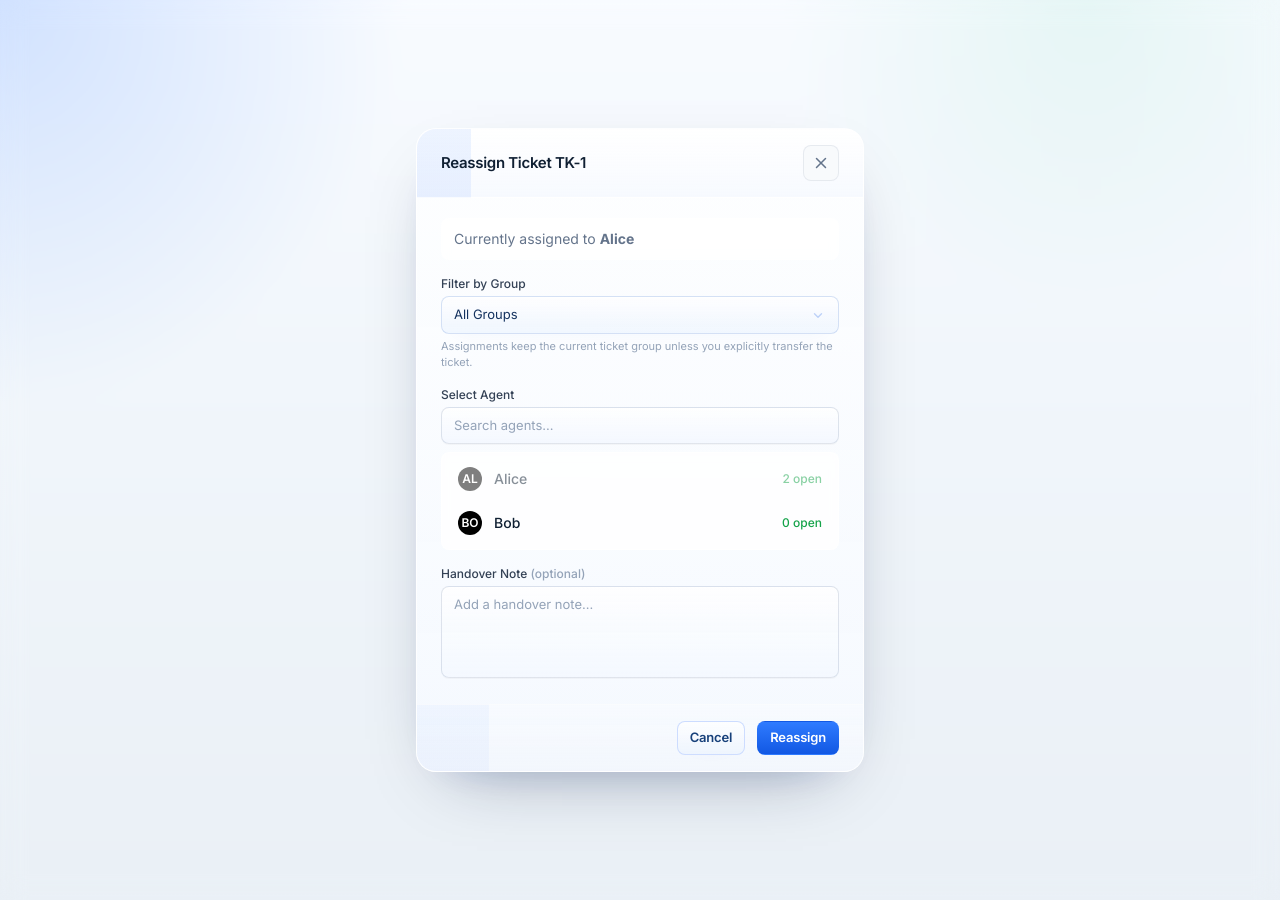
Test: AssignmentModal › disables Assign/Reassign button and shows warning when the current assignee is selected again
Click the button "AL Alice 2 open" at (511,479), box [446,457,834,501]
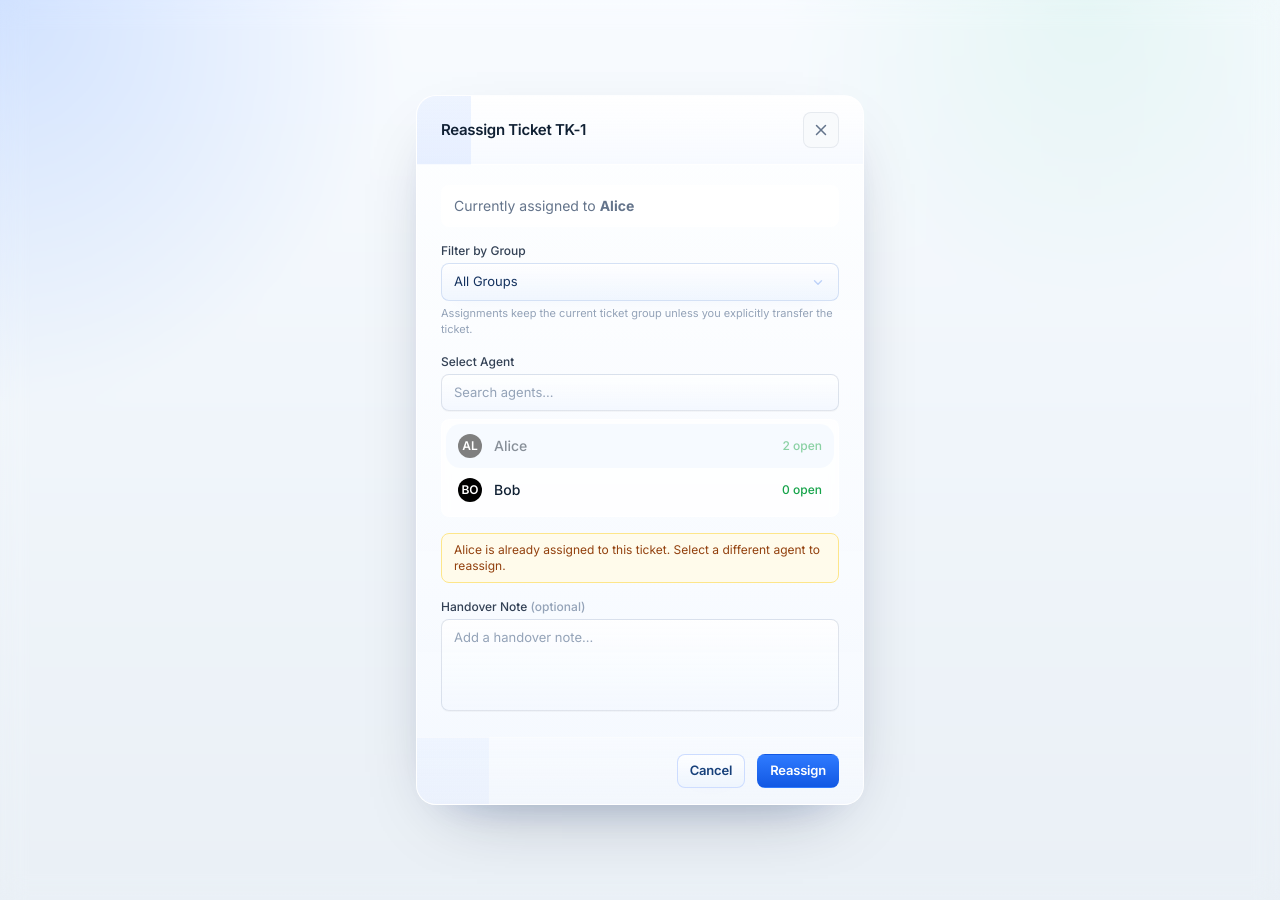
Expected: the button "Reassign" is disabled, [757,754,839,788]
Expected: the text "Alice is already assigned to this ticket" is shown, [441,533,839,583]
